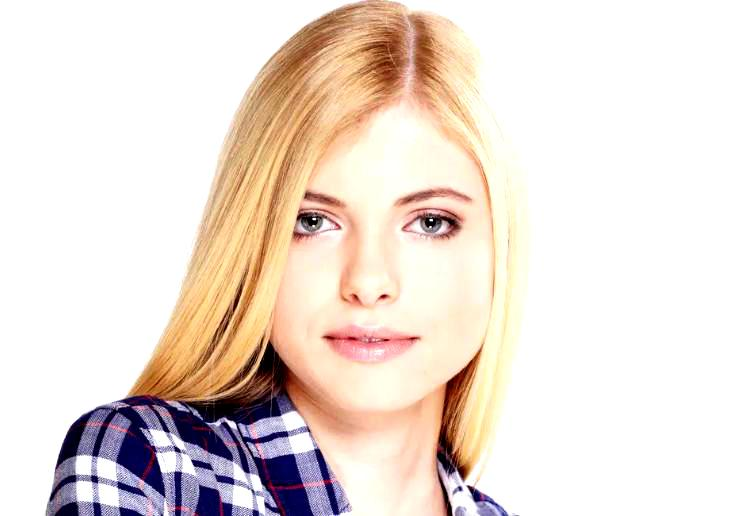face: (257, 107, 497, 404)
